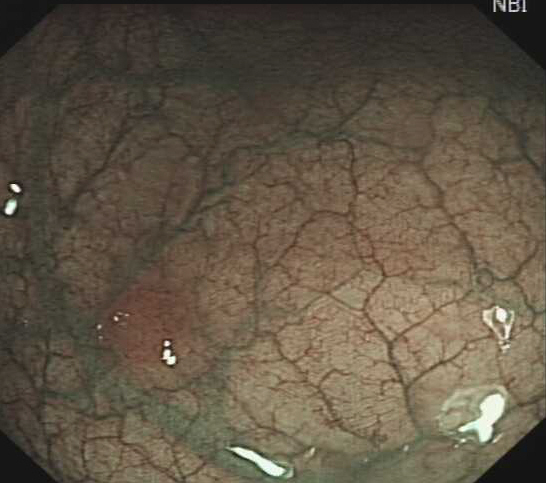adenoma: (99, 271, 213, 381)
